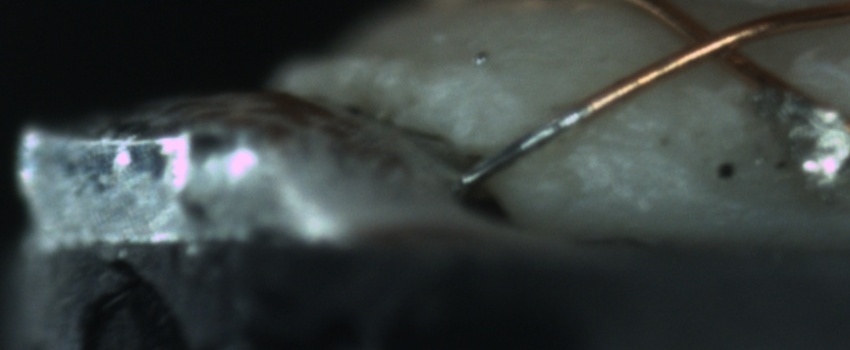CL: (660, 11, 765, 75)
DL: (554, 112, 686, 176)
TS: (461, 102, 593, 189)
